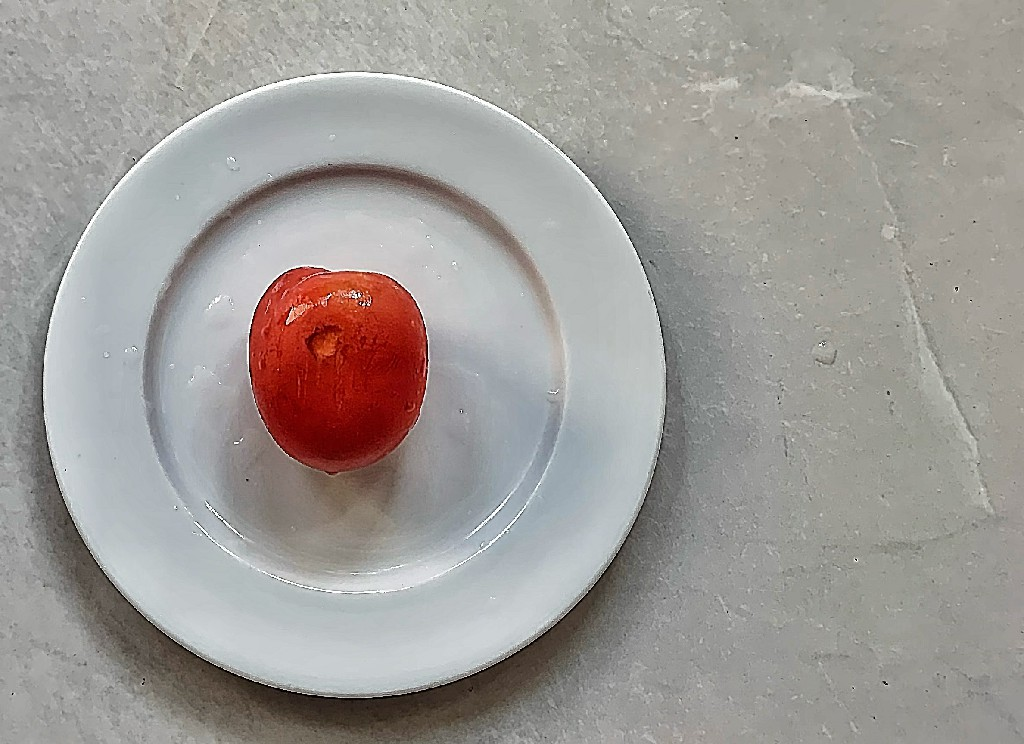NG: (248, 263, 430, 476)
